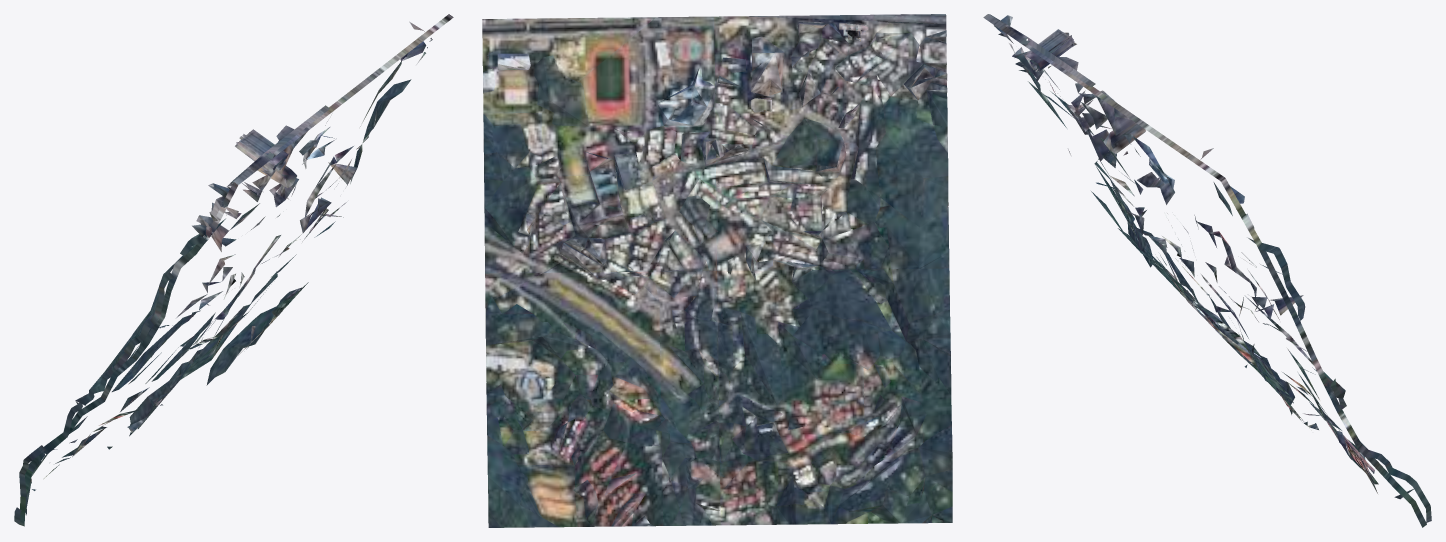
The picture shows the model from 3 angles, left to right: view 1: azimuth 30°, elevation 25°; view 2: azimuth 150°, elevation 25°; view 3: azimuth 270°, elevation 25°; orthographic projection. The views are drawn at different scales.
Size of the model in its own units: 1274 by 1105 by 1095.
2 materials, 2 textured.
